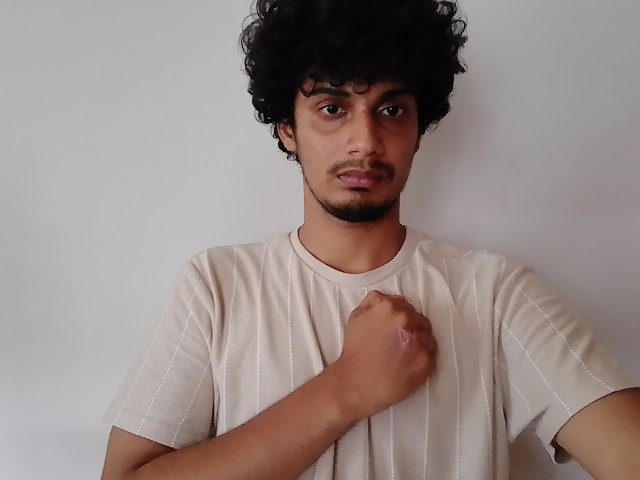sorry: (349, 224, 599, 457)
